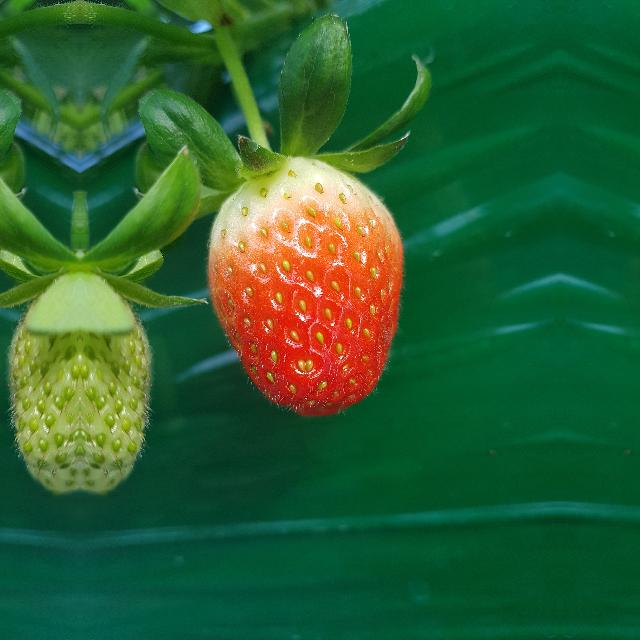Health_75: (204, 162, 404, 418)
